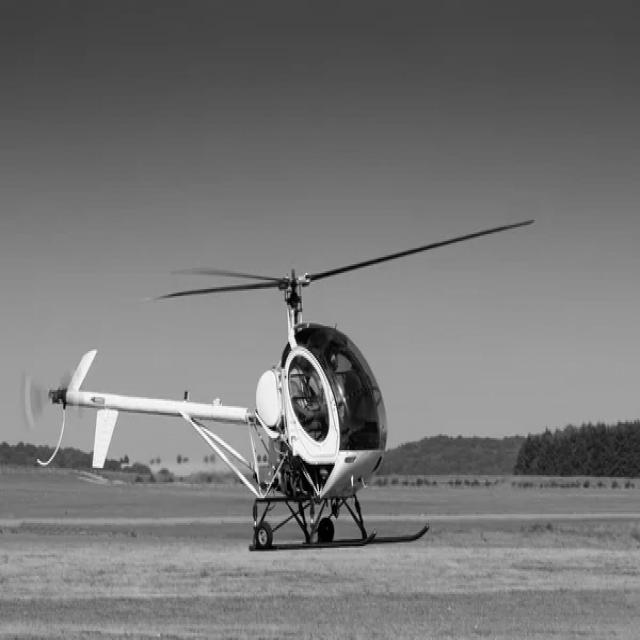Helicopter: (49, 221, 533, 548)
